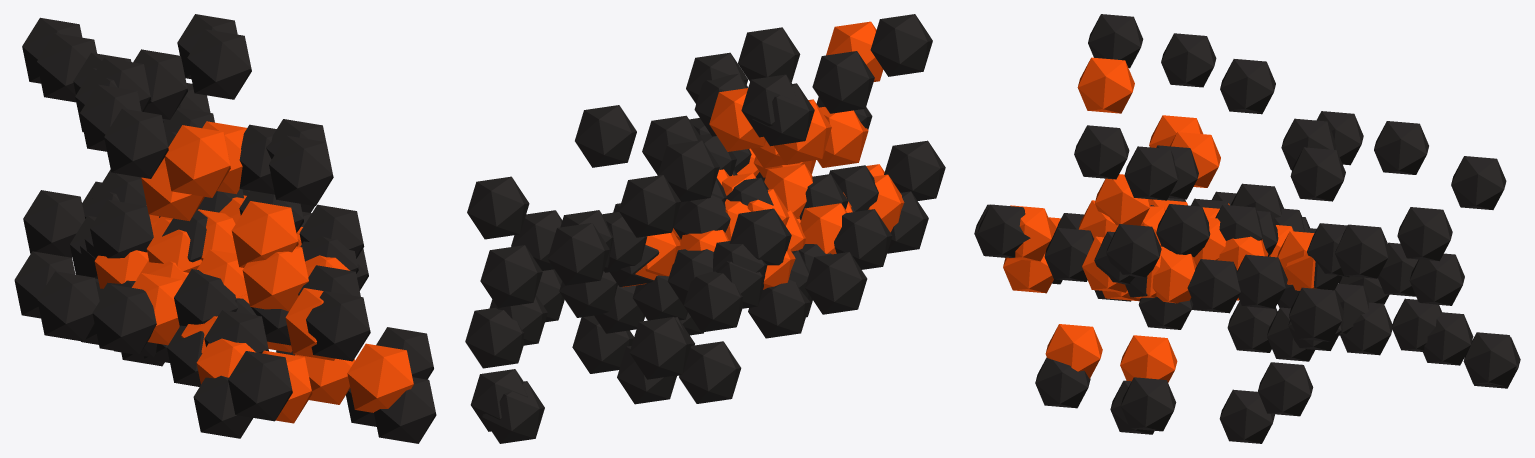
3 renders of one model, left to right at view 1: azimuth 30°, elevation 25°; view 2: azimuth 150°, elevation 25°; view 3: azimuth 270°, elevation 25°, orthographic. The views are drawn at different scales.
Visible parts, largest first — view 1: Smoke, FireTrail; view 2: Smoke, FireTrail; view 3: Smoke, FireTrail.
Part boxes in pixels (left/top/right/bottom): Smoke: left=14, top=14, right=436, bottom=443; FireTrail: left=94, top=121, right=413, bottom=423; Smoke: left=465, top=14, right=945, bottom=443; FireTrail: left=623, top=21, right=904, bottom=289; Smoke: left=974, top=14, right=1520, bottom=443; FireTrail: left=1003, top=57, right=1316, bottom=382.
Size of the model in its own units: 31.93 by 32.97 by 50.39.
